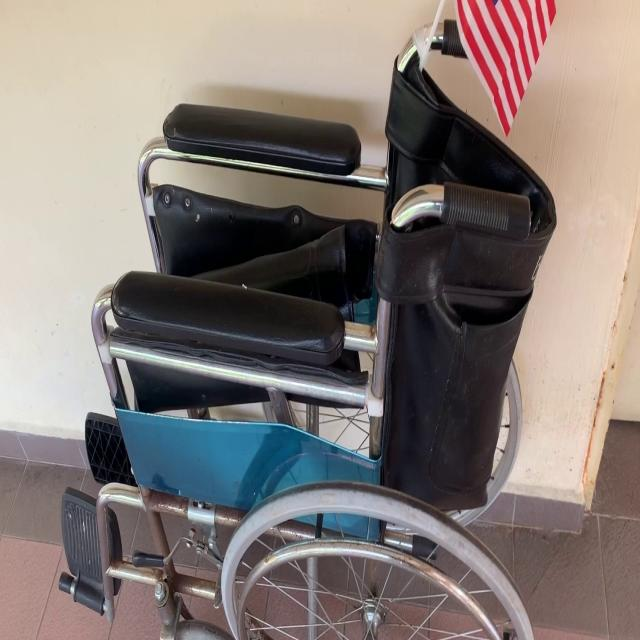wheelchair: (61, 0, 558, 640)
